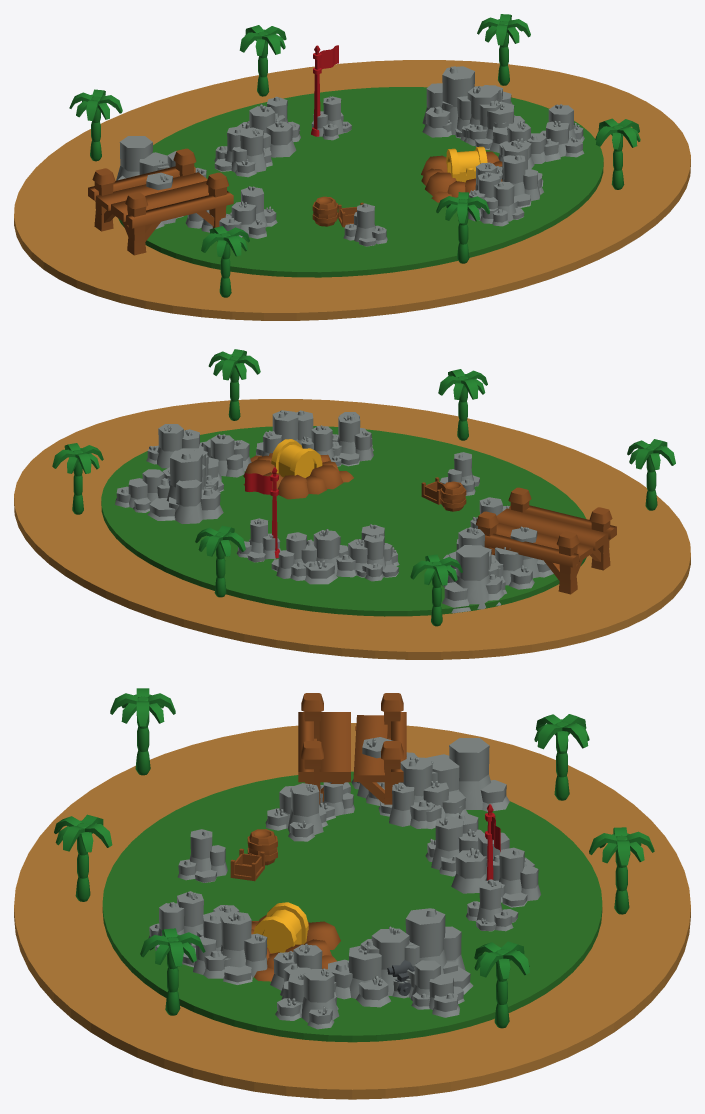
File: chestisland.glb
The picture shows the model from 3 angles, top to bottom: view 1: azimuth 30°, elevation 25°; view 2: azimuth 150°, elevation 25°; view 3: azimuth 270°, elevation 25°; orthographic projection. The views are drawn at different scales.
Visible parts, largest first — view 1: Treasure Island beach, Treasure Island grass land, structure-platform-dock-small, rocks-b.008, rocks-sand-a.008, rocks-sand-a.011, rocks-sand-a.012, rocks-sand-c.010, hole, rocks-a.005, palm-detailed-straight.009, palm-detailed-straight.014 (+20 smaller); view 2: Treasure Island beach, Treasure Island grass land, structure-platform-dock-small, rocks-b.008, rocks-a.005, hole, rocks-sand-a.009, rocks-sand-c.010, rocks-sand-b.014, palm-detailed-straight.009, palm-detailed-straight.013, palm-detailed-straight.010 (+18 smaller); view 3: Treasure Island beach, Treasure Island grass land, structure-platform-dock-small, rocks-a.005, rocks-sand-a.008, rocks-sand-b.012, rocks-b.008, rocks-sand-a.011, rocks-sand-a.012, rocks-sand-b.013, rocks-a.006, palm-detailed-straight.011 (+22 smaller).
Part boxes in pixels (x1=…): Treasure Island beach: x1=14, y1=60, x2=690, y2=320; Treasure Island grass land: x1=118, y1=87, x2=603, y2=277; structure-platform-dock-small: x1=88, y1=148, x2=233, y2=255; rocks-b.008: x1=422, y1=66, x2=474, y2=137; rocks-sand-a.008: x1=464, y1=86, x2=524, y2=152; rocks-sand-a.011: x1=540, y1=104, x2=584, y2=161; rocks-sand-a.012: x1=219, y1=186, x2=277, y2=238; rocks-sand-c.010: x1=237, y1=104, x2=296, y2=157; hole: x1=421, y1=151, x2=502, y2=202; rocks-a.005: x1=116, y1=136, x2=168, y2=180; palm-detailed-straight.009: x1=201, y1=226, x2=249, y2=297; palm-detailed-straight.014: x1=436, y1=192, x2=489, y2=263; Treasure Island beach: x1=14, y1=399, x2=690, y2=659; Treasure Island grass land: x1=101, y1=426, x2=586, y2=616; structure-platform-dock-small: x1=476, y1=487, x2=616, y2=594; rocks-b.008: x1=147, y1=449, x2=223, y2=523; rocks-a.005: x1=442, y1=545, x2=504, y2=613; hole: x1=243, y1=453, x2=353, y2=499; rocks-sand-a.009: x1=491, y1=526, x2=553, y2=589; rocks-sand-c.010: x1=301, y1=529, x2=348, y2=584; rocks-sand-b.014: x1=332, y1=413, x2=373, y2=466; palm-detailed-straight.009: x1=627, y1=439, x2=675, y2=510; palm-detailed-straight.013: x1=208, y1=349, x2=260, y2=420; palm-detailed-straight.010: x1=410, y1=554, x2=462, y2=626; Treasure Island beach: x1=14, y1=723, x2=690, y2=1099; Treasure Island grass land: x1=102, y1=771, x2=602, y2=1042; structure-platform-dock-small: x1=298, y1=693, x2=406, y2=804; rocks-a.005: x1=426, y1=738, x2=509, y2=817; rocks-sand-a.008: x1=328, y1=926, x2=410, y2=1007; rocks-sand-b.012: x1=203, y1=911, x2=267, y2=984; rocks-b.008: x1=405, y1=908, x2=473, y2=998; rocks-sand-a.011: x1=275, y1=968, x2=339, y2=1029; rocks-sand-a.012: x1=265, y1=783, x2=327, y2=841; rocks-sand-b.013: x1=378, y1=757, x2=434, y2=828; rocks-a.006: x1=410, y1=960, x2=464, y2=1017; palm-detailed-straight.011: x1=589, y1=827, x2=654, y2=914.
Bounding box in the file's own units: 29 × 4.58 × 22.62.
